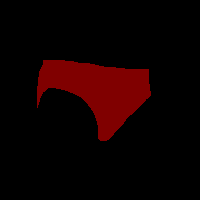mutande: (37, 59, 151, 141)
